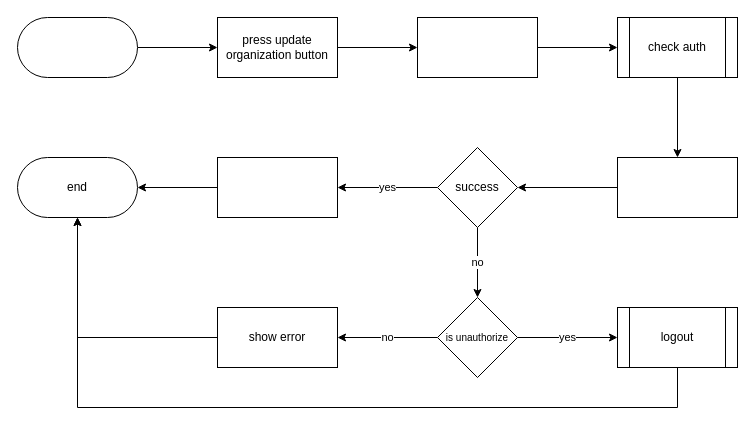
This 755x433 diagram has some shape labels left out. The shapes that lost their labels are listed below. From the top down, each one's box as (x1, y1, x2, y2) in pixels, then its label:
(16, 16, 138, 78): start
(416, 16, 538, 78): press delete organization button
(216, 156, 338, 218): show organizations
(616, 156, 738, 218): use access token to delete organization
